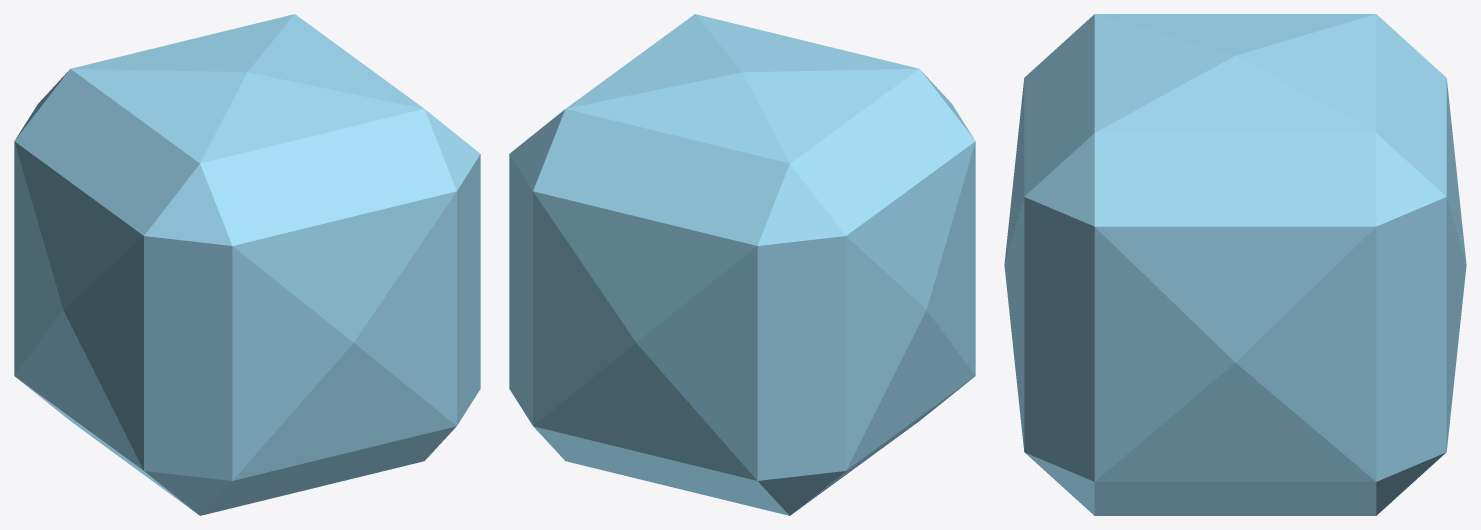
The model's file is voxel_crystal.glb.
3 renders of one model, left to right at view 1: azimuth 30°, elevation 25°; view 2: azimuth 150°, elevation 25°; view 3: azimuth 270°, elevation 25°, orthographic. The views are drawn at different scales.
Parts seen in each view (by area): view 1: Voxel_Crystal; view 2: Voxel_Crystal; view 3: Voxel_Crystal.
Part boxes in pixels (x1,y1,x2,y2): Voxel_Crystal: (14, 14, 480, 515); Voxel_Crystal: (509, 14, 975, 515); Voxel_Crystal: (1004, 14, 1466, 515).
Bounding box in the file's own units: 1.05 × 1.05 × 1.05.
